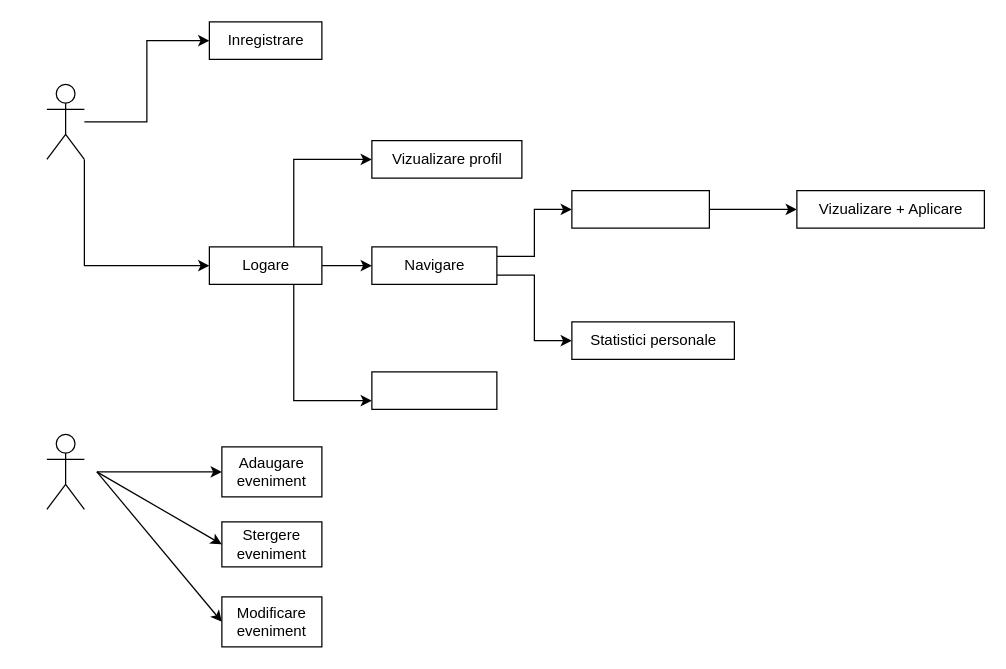
Some shapes in this 1006 by 669 pixel diagram are drawn without their labels. Each missing label, with the box of its shape:
Administrator: (46, 433, 84, 509)
Delogare: (371, 371, 497, 409)
Job-uri / stagii: (571, 189, 709, 228)
Utilizator: (46, 83, 84, 159)
